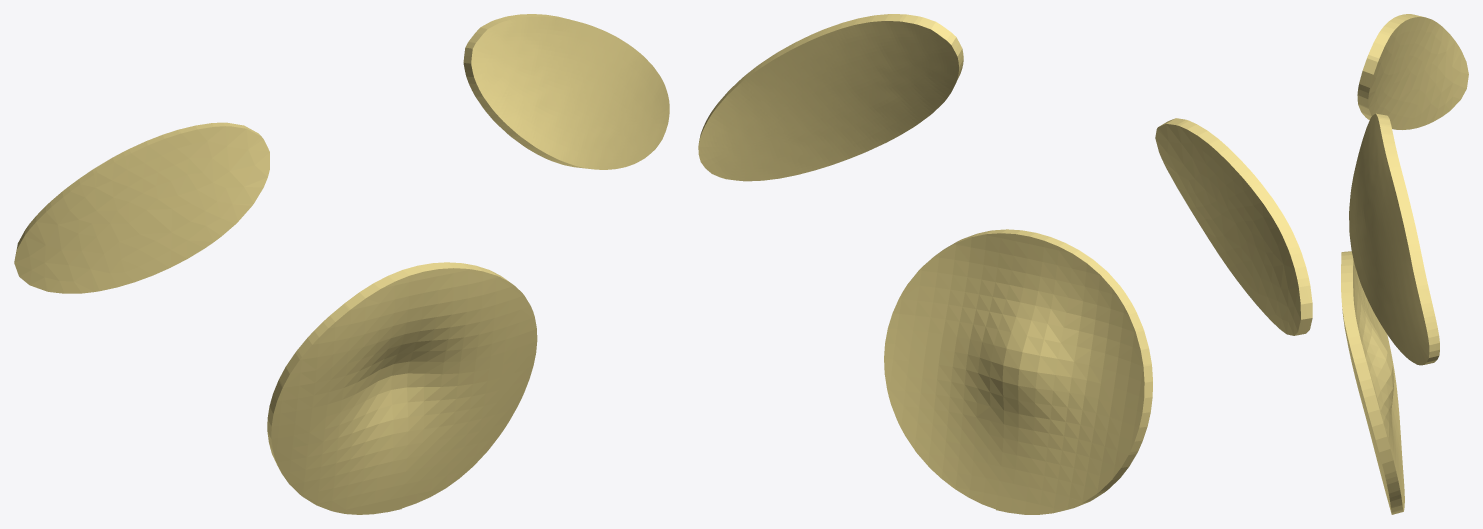
The model's file is subcutaneous-fat-partial.glb.
3 views of the same model, side by side, from view 1: azimuth 30°, elevation 25°; view 2: azimuth 150°, elevation 25°; view 3: azimuth 270°, elevation 25° (orthographic). The views are drawn at different scales.
Visible parts, largest first — view 1: subcutaneous-fat-partial; view 2: subcutaneous-fat-partial; view 3: subcutaneous-fat-partial.
Boxes of the visible parts, box(x1,y1,x2,y2) form: subcutaneous-fat-partial: box(14, 14, 669, 514); subcutaneous-fat-partial: box(698, 14, 1312, 514); subcutaneous-fat-partial: box(1341, 14, 1468, 514).
Bounding box in the file's own units: 0.1886 × 0.1327 × 0.036.
